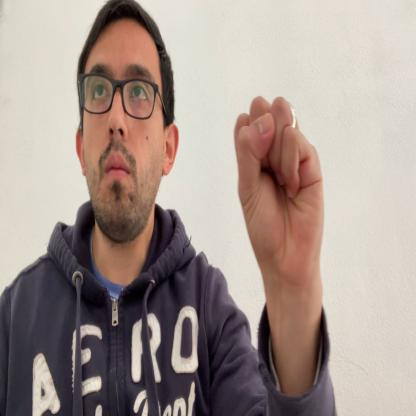S: (234, 94, 324, 270)
